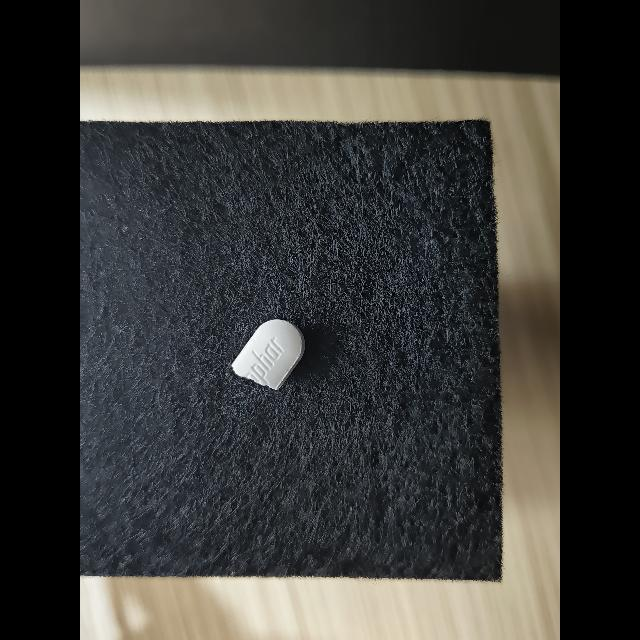Chipped Pill: (231, 319, 305, 390)
